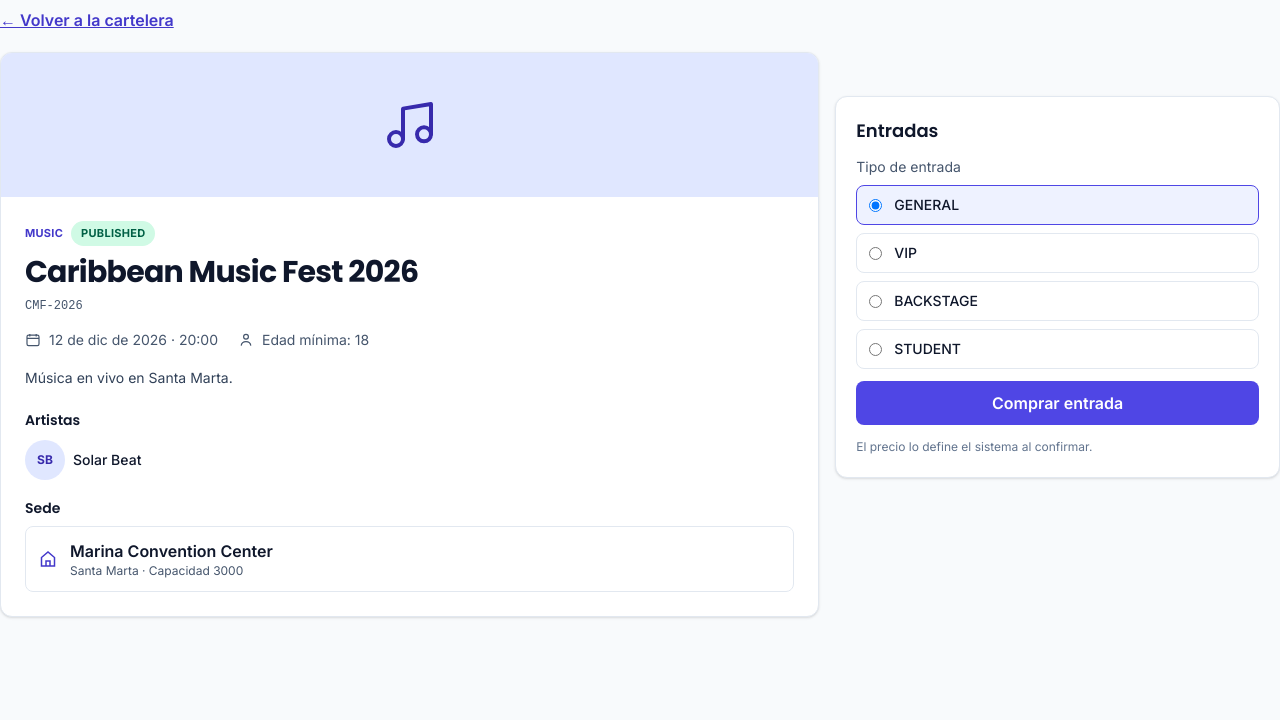
Scenario: TEST-FE-TKT: compra y tickets de usuario › TEST-FE-TKT-001/004 compra y envía el email de la sesión a confirmación
The width and height of the screenshot is (1280, 720).
Expected: the radio button labelled "GENERAL" is checked, [869,198,882,212]
Expected: the radio button labelled "VIP" is shown, [869,246,882,260]
Click the button "Comprar entrada" at (1058, 403), box [856,381,1259,425]
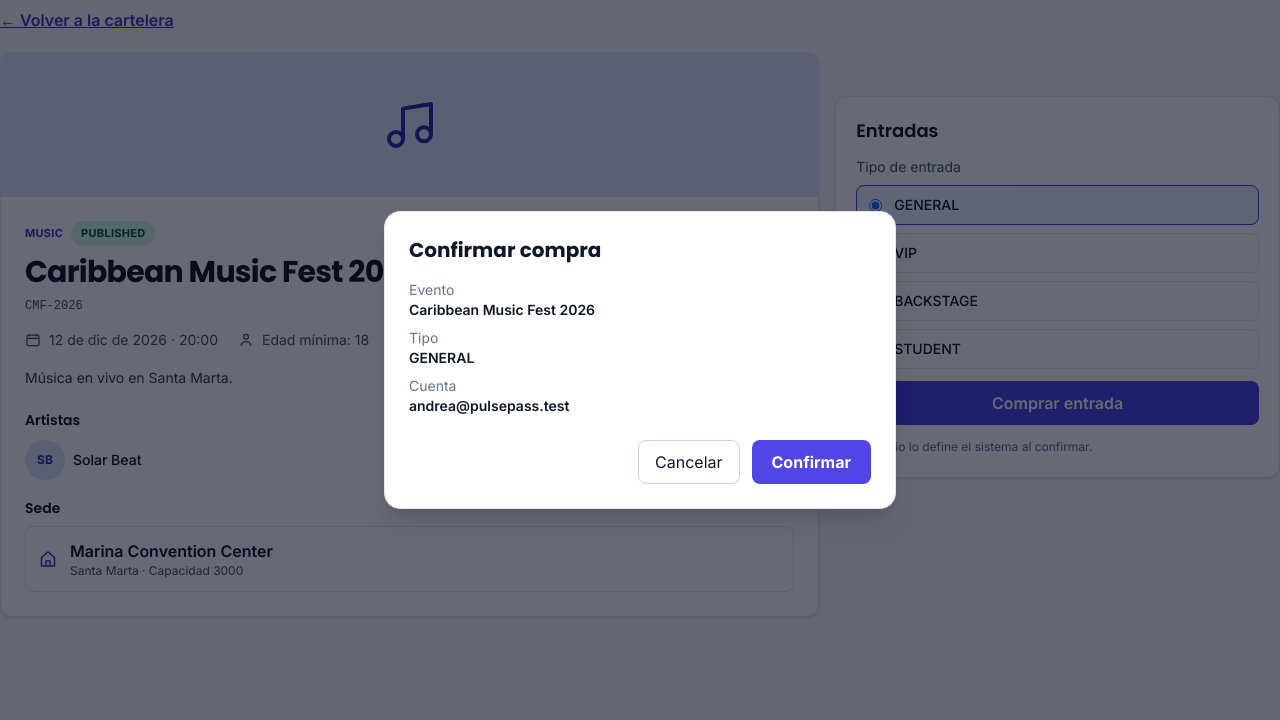
Click the button "Confirmar" at (811, 462), box [752,440,871,484]
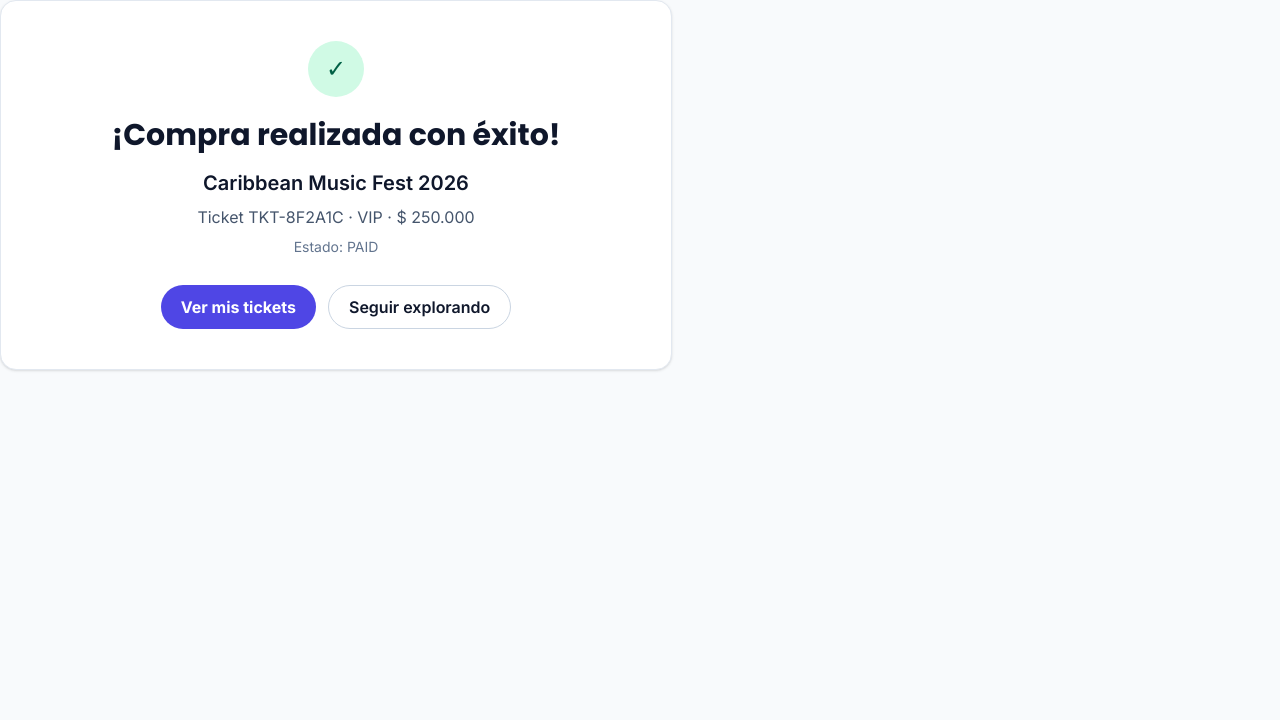
Result: the heading "¡Compra realizada con éxito!" is shown at [112,114,560,156]
